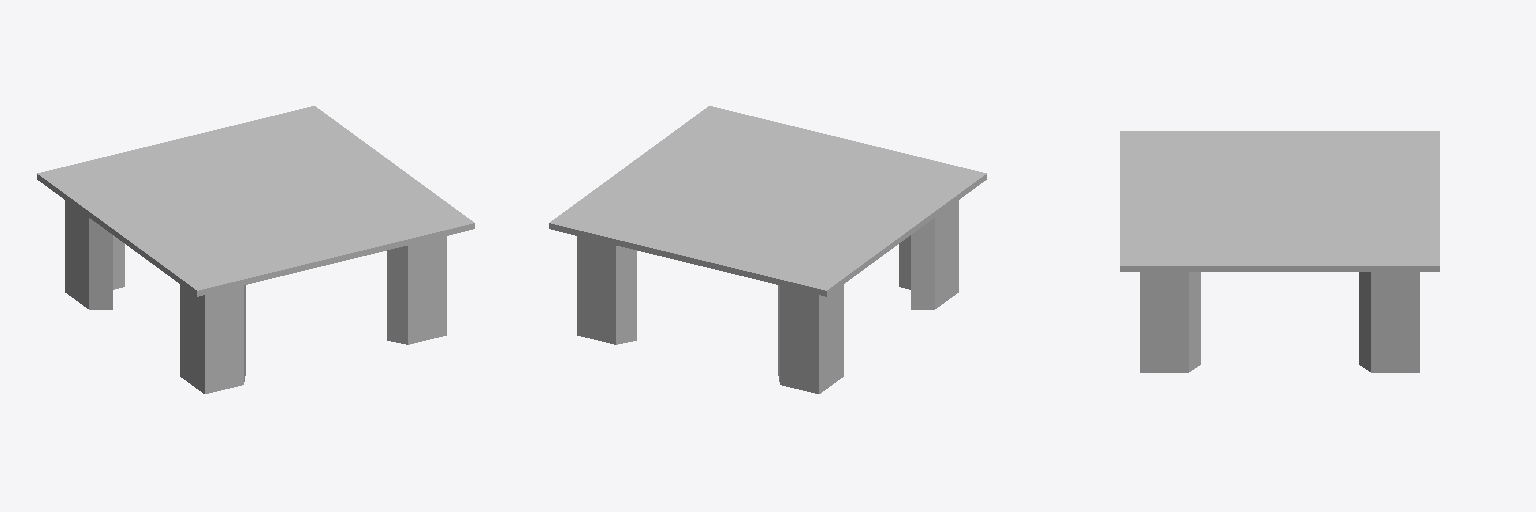
The model's file is table.obj.
3 renders of one model, left to right at view 1: azimuth 30°, elevation 25°; view 2: azimuth 150°, elevation 25°; view 3: azimuth 270°, elevation 25°, orthographic.
Visible parts, largest first — view 1: Cube; view 2: Cube; view 3: Cube.
Boxes of the visible parts, x1,y1,x2,y2 form: Cube: [37, 106, 474, 393]; Cube: [549, 106, 986, 393]; Cube: [1120, 131, 1439, 372].
Size of the model in its own units: 21.19 by 8.42 by 21.19.